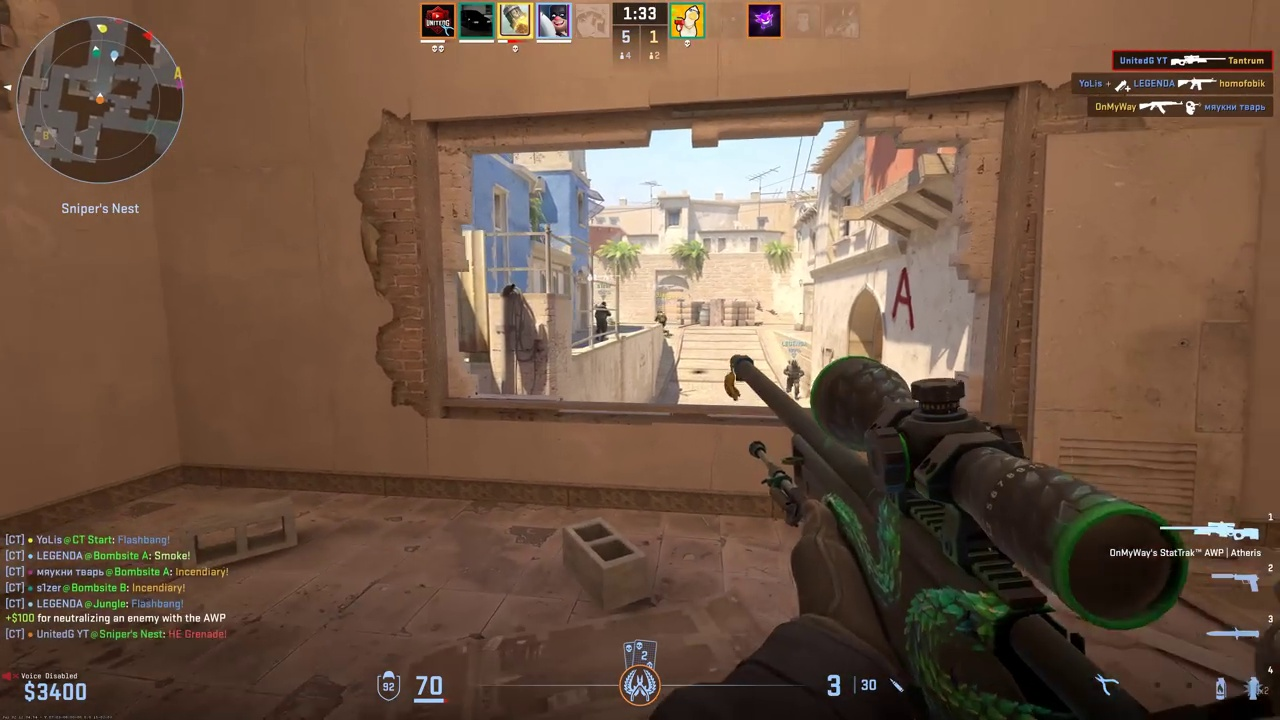CT: (592, 300, 612, 341), (785, 359, 803, 398), (656, 311, 669, 334)
